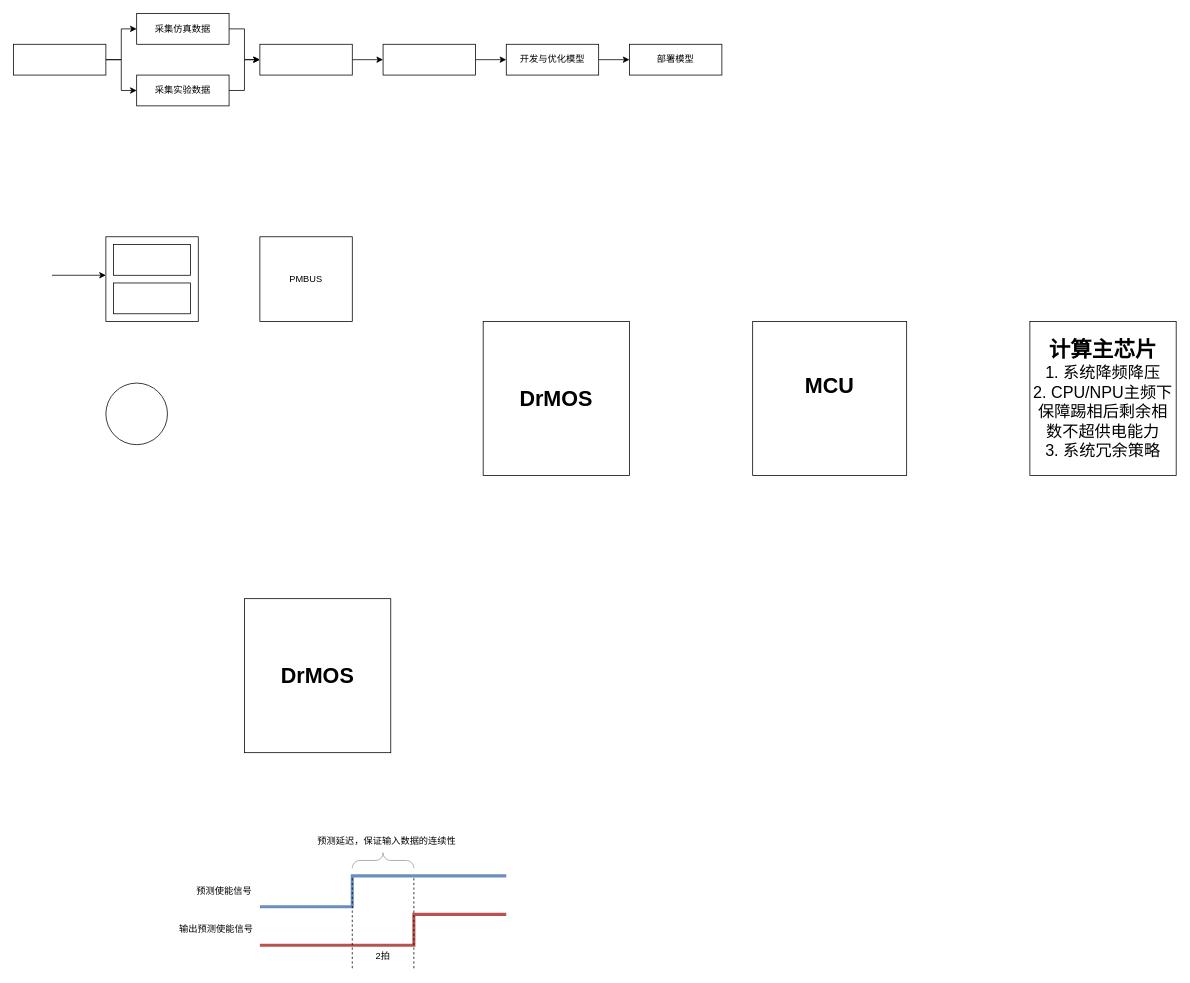
Image size: 1190x983. Some labels were removed from this diagram. The centre of each missing label's shape, as x and y in pixels:
FLASH: (152,259)
RAM: (152,298)
分析特征工程: (428,59)
明确采样信号: (59,59)
构建失效判据: (305,59)
